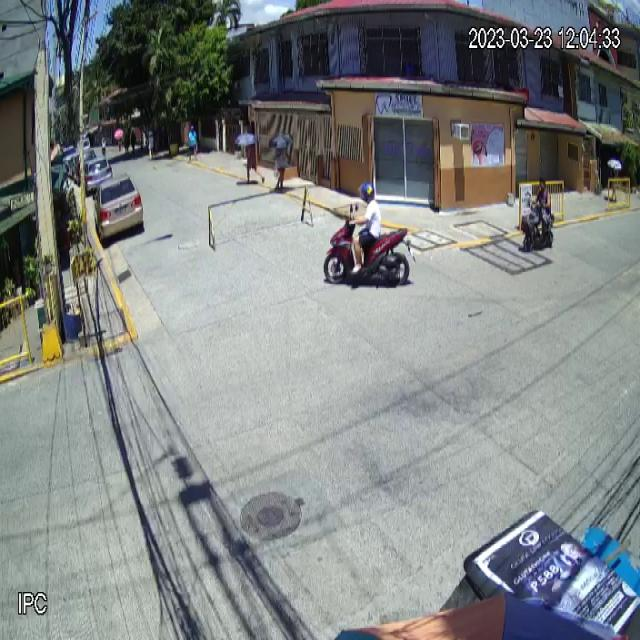Motorcycle: (323, 213, 414, 290)
